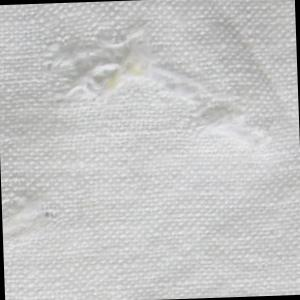Damage: (24, 8, 275, 160), (2, 184, 60, 247)
